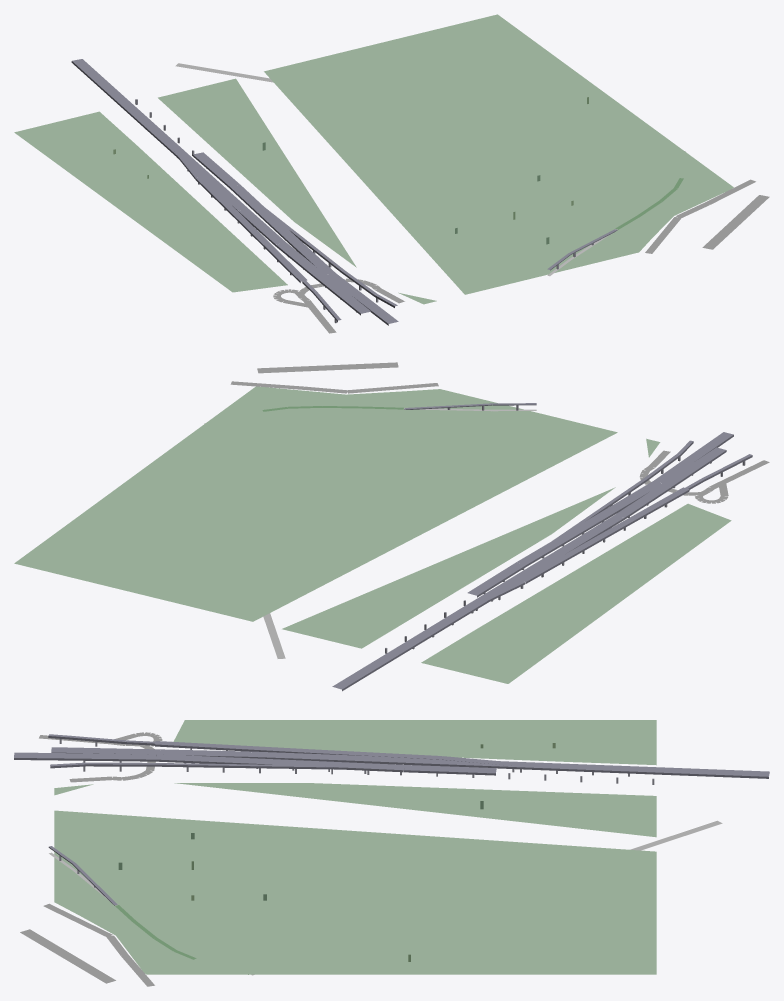
The picture shows the model from 3 angles, top to bottom: view 1: azimuth 30°, elevation 25°; view 2: azimuth 150°, elevation 25°; view 3: azimuth 270°, elevation 25°; orthographic projection. The views are drawn at different scales.
Size of the model in its own units: 524 by 8.87 by 627.
